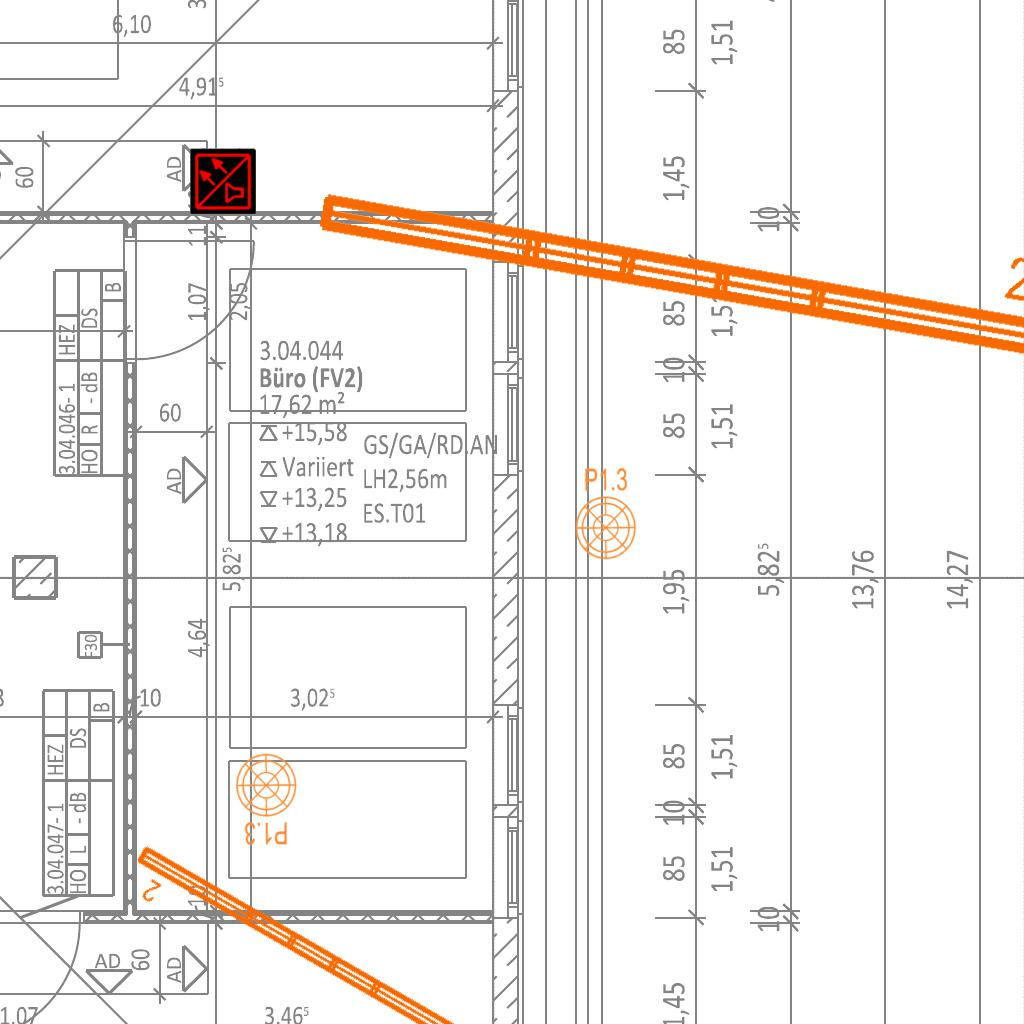Ambulanz_Pendelleuchte_LED: (306, 129, 1024, 375), (116, 838, 481, 1024)
Aufbaurundleuchte_LED_Treppenhaus: (229, 752, 298, 854), (574, 459, 643, 561)
OKW_Multisensormelder_(Kombination_optischer_Rauch-Kahlenmonoxid_Waerme-Melder): (190, 148, 256, 214)
